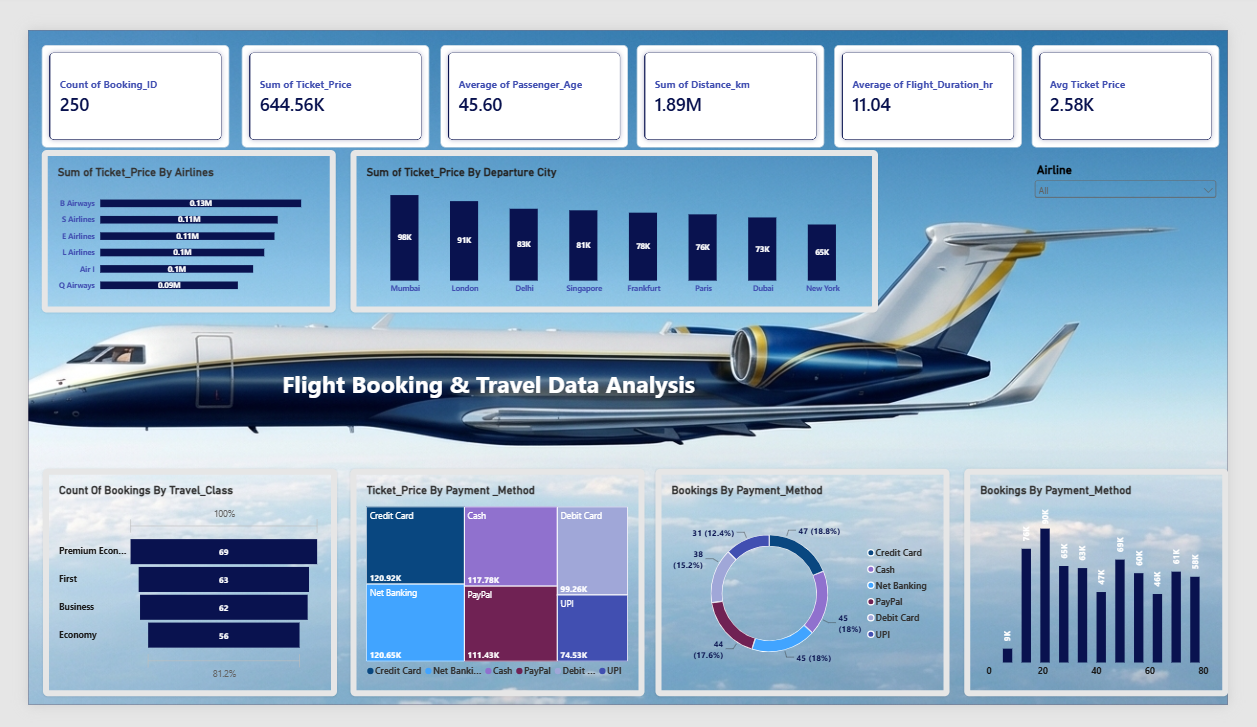

What the dashboard file says about the page in this screenshot:
{"tool":"powerbi","page":{"name":"Page 1","canvas":[1920,1080],"ordinal":0},"visuals":[{"type":"image","box":[0,0,1920,1080],"z":0},{"type":"textbox","box":[100,100,300,300],"z":1000},{"type":"textbox","box":[100,0,1746,100],"z":2000},{"type":"cardVisual","fields":{"Data":["Count(flight_bookings_sample.Booking_ID)"]},"box":[22.8,23.6,300,164],"z":3000},{"type":"cardVisual","fields":{"Data":["Sum(flight_bookings_sample.Ticket_Price)"]},"box":[342.8,23.6,300,164],"z":4000},{"type":"cardVisual","fields":{"Data":["Avg(flight_bookings_sample.Passenger_Age)"]},"box":[660.8,23.6,300,164],"z":5000},{"type":"cardVisual","fields":{"Data":["Sum(flight_bookings_sample.Distance_km)"]},"box":[974.8,23.6,300,164],"z":6000},{"type":"cardVisual","fields":{"Data":["Avg(flight_bookings_sample.Flight_Duration_hr)"]},"box":[1290.8,23.6,300,164],"z":7000},{"type":"cardVisual","fields":{"Data":["flight_bookings_sample.Avg Ticket Price"]},"box":[1606.8,23.6,300,164],"z":8000},{"type":"textbox","box":[0,540,1474,62],"z":9000},{"type":"clusteredBarChart","title":"Sum of Ticket_Price By Airlines","fields":{"Category":["flight_bookings_sample.Airline"],"Y":["Sum(flight_bookings_sample.Ticket_Price)"]},"box":[22,192,470,260],"z":10000},{"type":"clusteredColumnChart","title":"Sum of Ticket_Price By Departure City","fields":{"Category":["flight_bookings_sample.Departure_City"],"Y":["Sum(flight_bookings_sample.Ticket_Price)"]},"box":[516,192,844,260],"z":11000},{"type":"funnel","title":"Count Of Bookings By Travel_Class ","fields":{"Category":["flight_bookings_sample.Travel_Class"],"Y":["CountNonNull(flight_bookings_sample.Booking_ID)"]},"box":[24,702,470,364],"z":12000},{"type":"treemap","title":"Ticket_Price By Payment _Method","fields":{"Group":["flight_bookings_sample.Payment_Method"],"Values":["Sum(flight_bookings_sample.Ticket_Price)"]},"box":[516,702,470,364],"z":13000},{"type":"donutChart","title":"Bookings By Payment_Method","fields":{"Category":["flight_bookings_sample.Payment_Method"],"Y":["CountNonNull(flight_bookings_sample.Booking_ID)"]},"box":[1004,702,470,364],"z":14000},{"type":"columnChart","title":"Bookings By Payment_Method","fields":{"Category":["flight_bookings_sample.Passenger_Age (bins)"],"Y":["Sum(flight_bookings_sample.Ticket_Price)"]},"box":[1498,702,422,364],"z":15000},{"type":"slicer","fields":{"Values":["flight_bookings_sample.Airline"]},"box":[1606,212,300,110],"z":15001}]}

Visuals, with their boxes in screenshot pixels (x1, y1, x2, y2), scaled from the page's 1920x1080 canvas onto the 1257x727 screenshot:
image: {"x1": 0, "y1": 0, "x2": 1256, "y2": 726}
textbox: {"x1": 65, "y1": 67, "x2": 262, "y2": 269}
textbox: {"x1": 65, "y1": 0, "x2": 1209, "y2": 67}
cardVisual - Count(flight_bookings_sample.Booking_ID): {"x1": 15, "y1": 16, "x2": 211, "y2": 126}
cardVisual - Sum(flight_bookings_sample.Ticket_Price): {"x1": 224, "y1": 16, "x2": 421, "y2": 126}
cardVisual - Avg(flight_bookings_sample.Passenger_Age): {"x1": 433, "y1": 16, "x2": 629, "y2": 126}
cardVisual - Sum(flight_bookings_sample.Distance_km): {"x1": 638, "y1": 16, "x2": 835, "y2": 126}
cardVisual - Avg(flight_bookings_sample.Flight_Duration_hr): {"x1": 845, "y1": 16, "x2": 1041, "y2": 126}
cardVisual - flight_bookings_sample.Avg Ticket Price: {"x1": 1052, "y1": 16, "x2": 1248, "y2": 126}
textbox: {"x1": 0, "y1": 364, "x2": 965, "y2": 405}
"Sum of Ticket_Price By Airlines" clusteredBarChart: {"x1": 14, "y1": 129, "x2": 322, "y2": 304}
"Sum of Ticket_Price By Departure City" clusteredColumnChart: {"x1": 338, "y1": 129, "x2": 890, "y2": 304}
"Count Of Bookings By Travel_Class " funnel: {"x1": 16, "y1": 473, "x2": 323, "y2": 718}
"Ticket_Price By Payment _Method" treemap: {"x1": 338, "y1": 473, "x2": 646, "y2": 718}
"Bookings By Payment_Method" donutChart: {"x1": 657, "y1": 473, "x2": 965, "y2": 718}
"Bookings By Payment_Method" columnChart: {"x1": 981, "y1": 473, "x2": 1256, "y2": 718}
slicer - flight_bookings_sample.Airline: {"x1": 1051, "y1": 143, "x2": 1248, "y2": 217}
